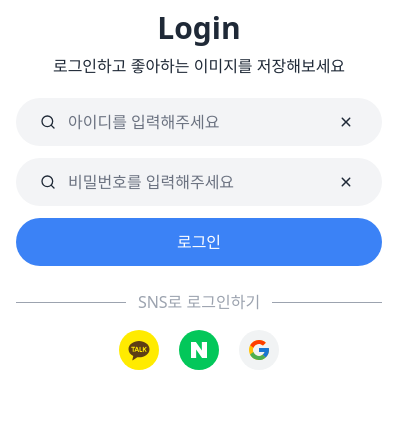
Test case: SigninForm 테스트 › 유효성 검사가 통과되지 않을 경우 에러 메세지가 표시된다
Note: 올바르지 않은 입력값
Type "id" into the field with placeholder "아이디를 입력해주세요" at [195, 122], box [68, 110, 322, 134]
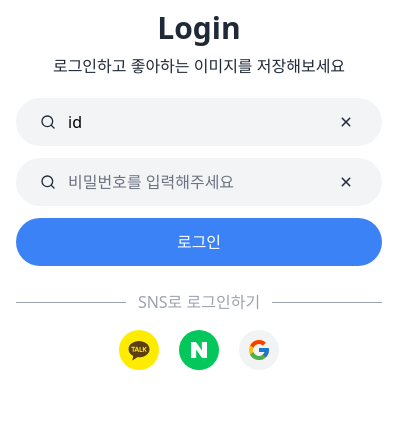
Type "password" into the field with placeholder "비밀번호를 입력해주세요" at [195, 182], box [68, 170, 322, 194]
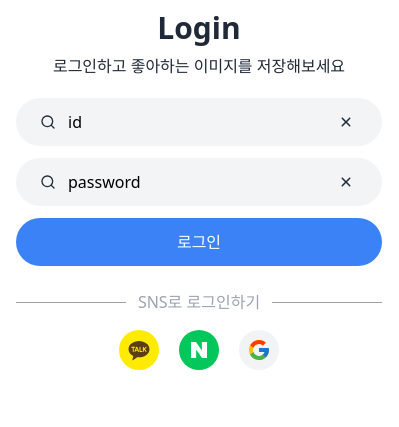
Click the button with test id "signin" at [199, 242], box [16, 218, 382, 266]
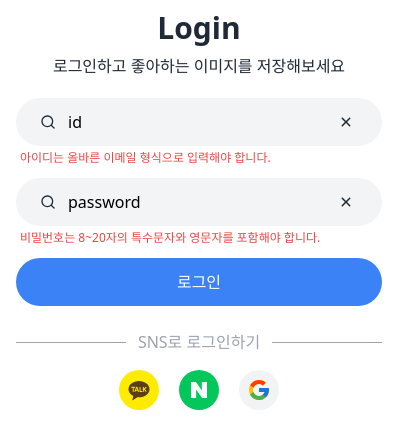
Expected: the text "아이디는 올바른 이메일 형식으로 입력해야 합니다." is shown, [20, 149, 271, 166]
Expected: the text "비밀번호는 8~20자의 특수문자와 영문자를 포함해야 합니다." is shown, [20, 229, 320, 246]
